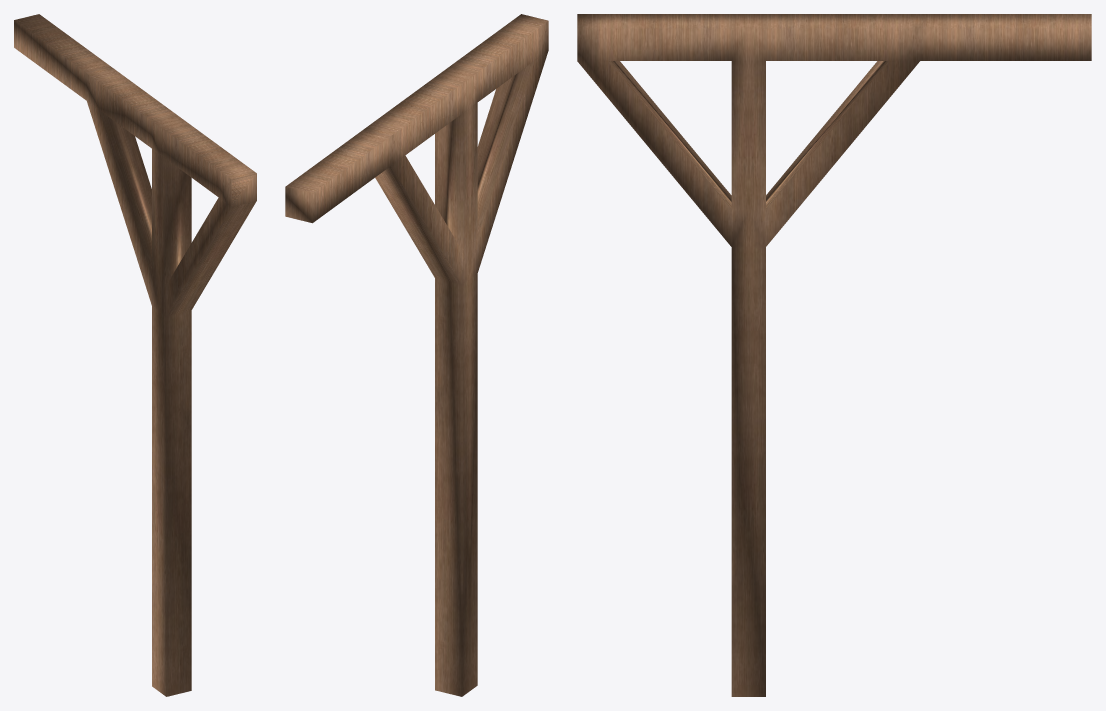
3 renders of one model, left to right at view 1: azimuth 30°, elevation 25°; view 2: azimuth 150°, elevation 25°; view 3: azimuth 270°, elevation 25°, orthographic. The views are drawn at different scales.
Visible parts, largest first — view 1: Cube168_Wood_02001_0; view 2: Cube168_Wood_02001_0; view 3: Cube168_Wood_02001_0.
Boxes of the visible parts, box(x1,y1,x2,y2) form: Cube168_Wood_02001_0: box(14, 14, 256, 696); Cube168_Wood_02001_0: box(285, 14, 548, 696); Cube168_Wood_02001_0: box(577, 14, 1091, 696).
Bounding box in the file's own units: 0.2 × 4.3 × 3.
1 material, 1 textured.
